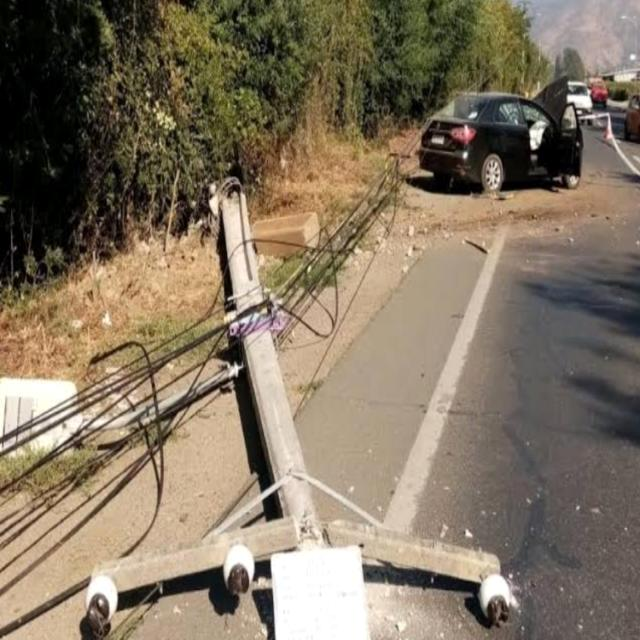Broken Pole: (0, 177, 515, 639)
